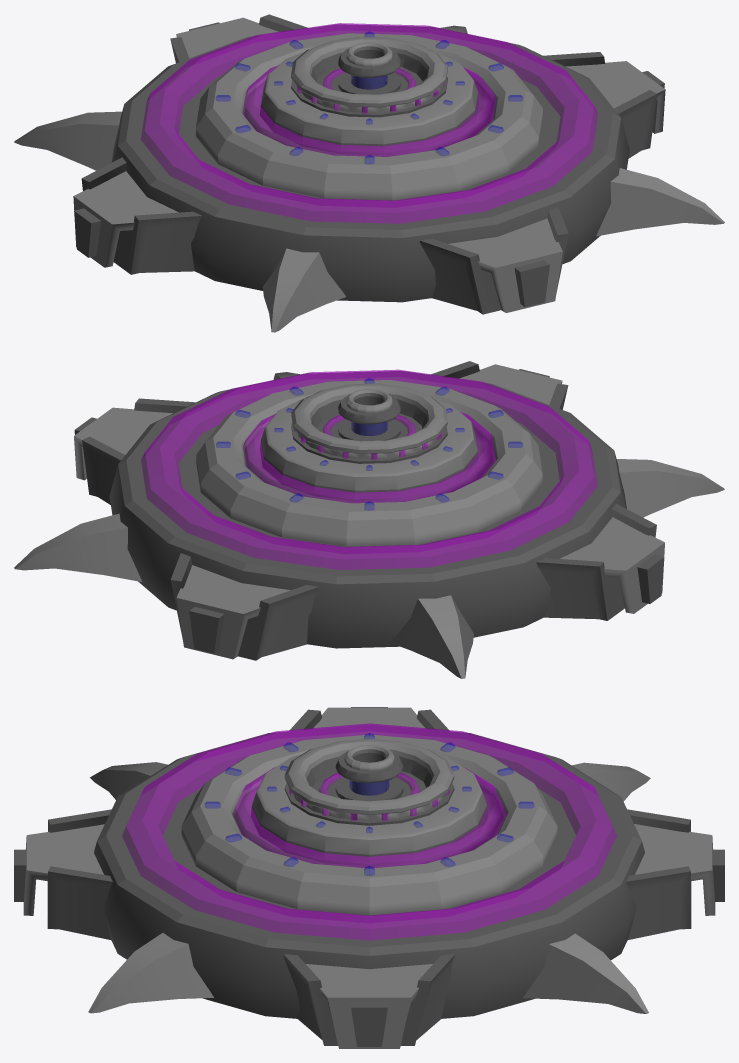
File: Mine_Curved.fbx
3 renders of one model, top to bottom at view 1: azimuth 30°, elevation 25°; view 2: azimuth 150°, elevation 25°; view 3: azimuth 270°, elevation 25°, orthographic. The views are drawn at different scales.
Parts seen in each view (by area): view 1: polySurface11; view 2: polySurface11; view 3: polySurface11.
Boxes of the visible parts, x1=… form: polySurface11: x1=14, y1=14, x2=724, y2=332; polySurface11: x1=14, y1=361, x2=724, y2=678; polySurface11: x1=14, y1=707, x2=724, y2=1048.
Size of the model in its own units: 22.42 by 5.42 by 22.42.
